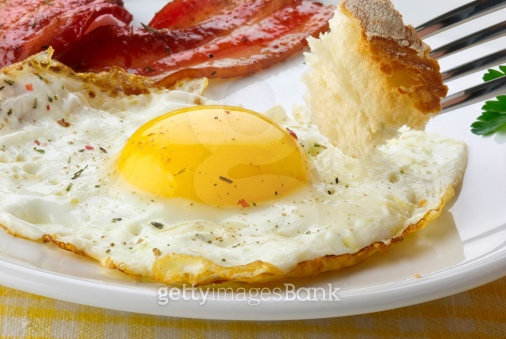fried egg: (6, 83, 420, 269)
slice of bread: (316, 2, 449, 135)
